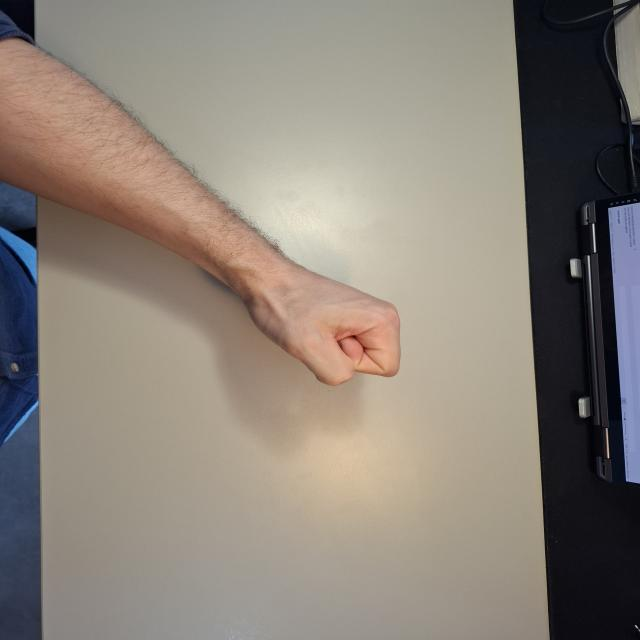glove_off: (226, 250, 406, 388)
